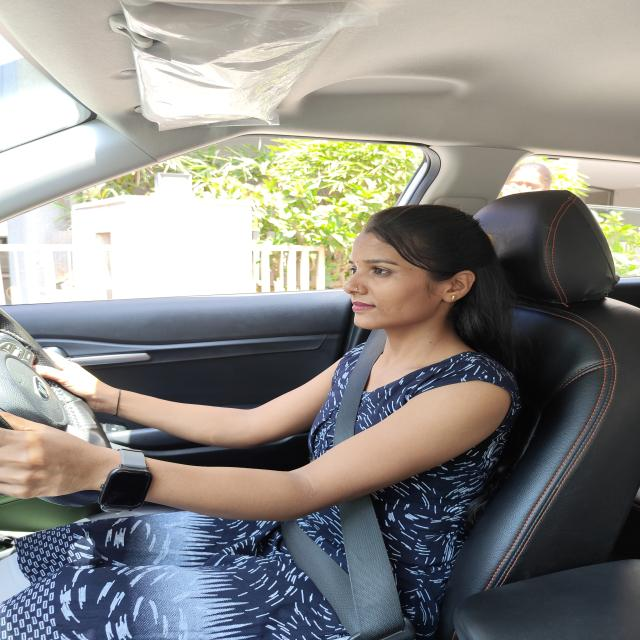seatbelt: (253, 335, 461, 640)
